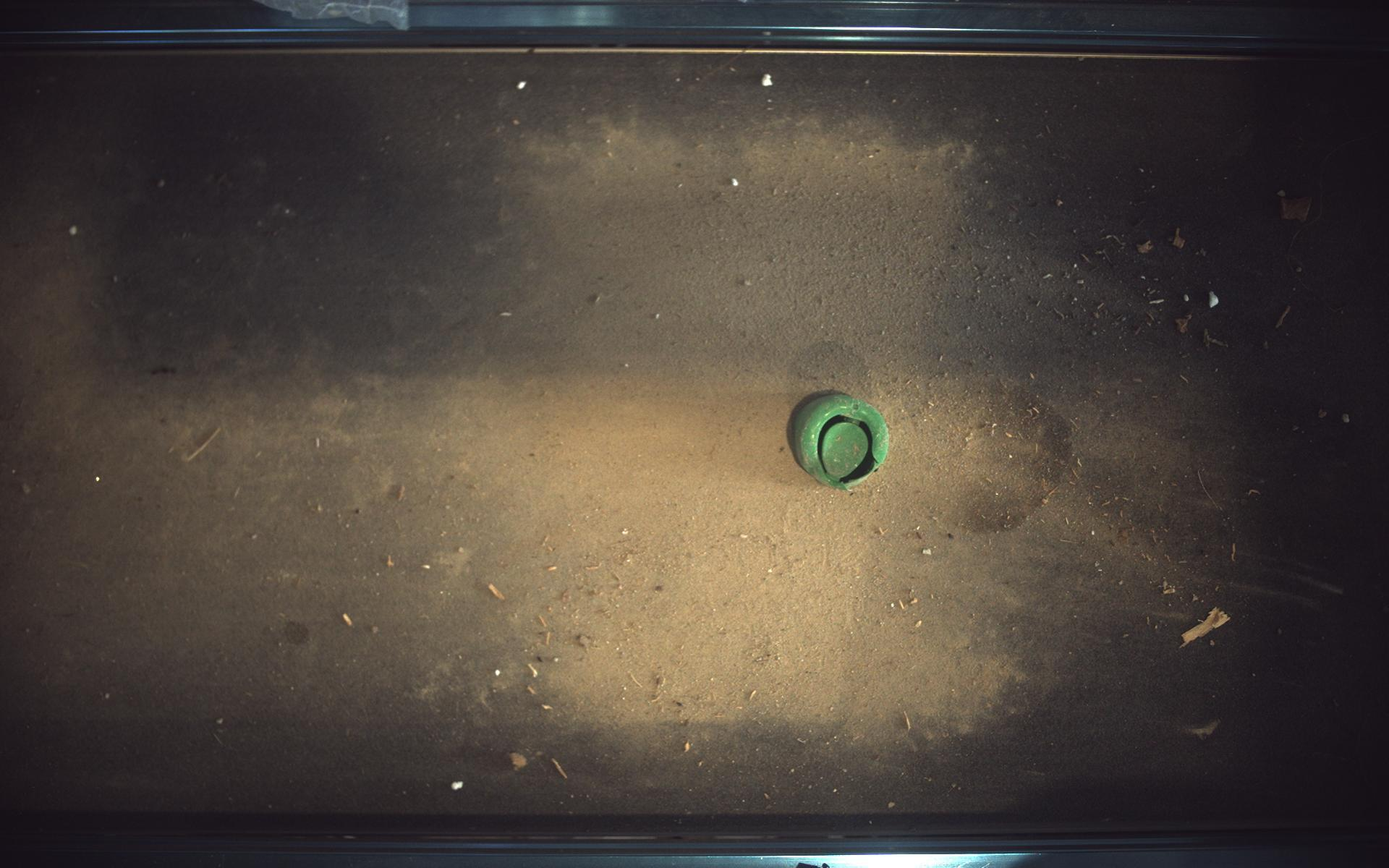general_w: (789, 391, 891, 490)
